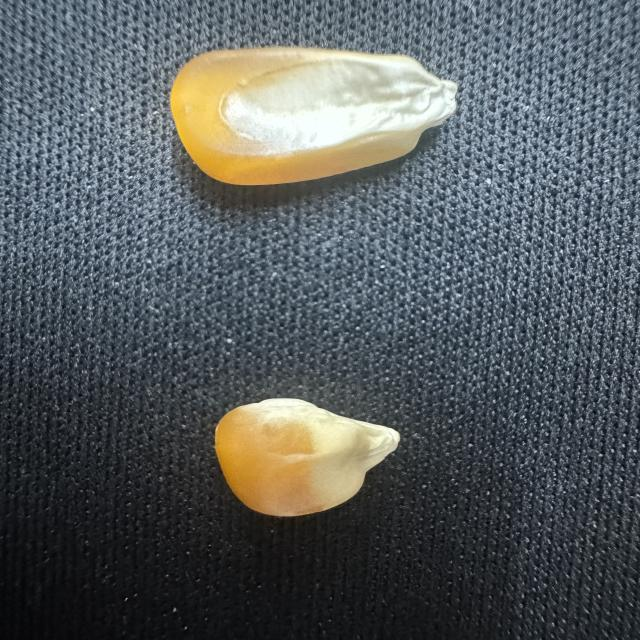Bad-Seed: (211, 391, 402, 526)
Good-Seed: (153, 42, 472, 204)
